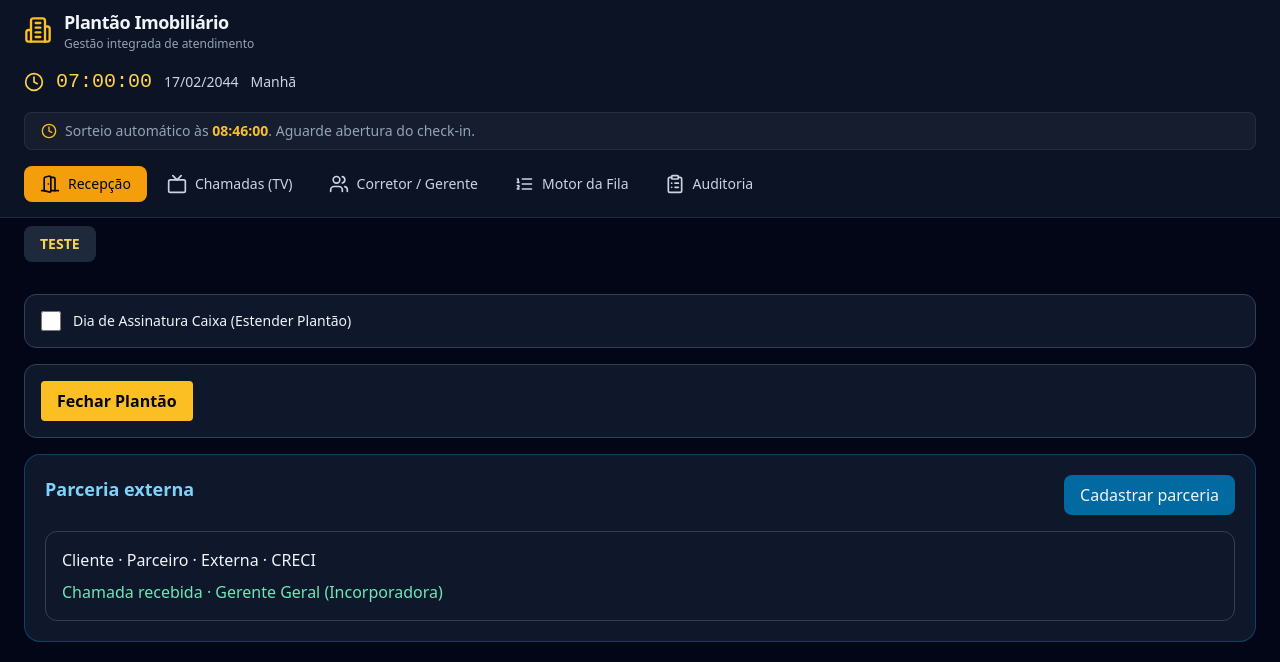
fecha pelo botão, preserva snapshot nominal e depois limpa o dia pelo TESTE sem perder fatos ou corretores
What coordinates should you click on to do the following:
click the button "TESTE"
I would click on:
 (60, 244)
Its box is top-left (24, 226), bottom-right (96, 262).
(page scrolled)
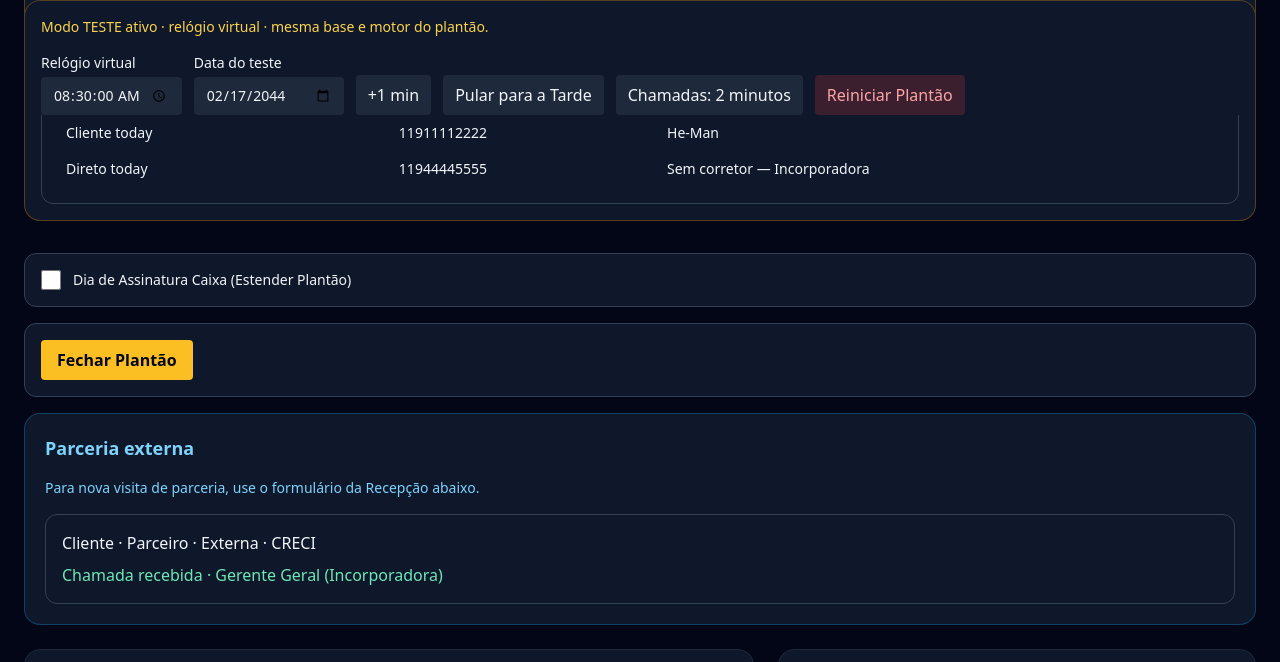
What coordinates should you click on to do the following:
click the button "Fechar Plantão"
I would click on:
 (117, 360)
Its box is top-left (41, 340), bottom-right (193, 380).
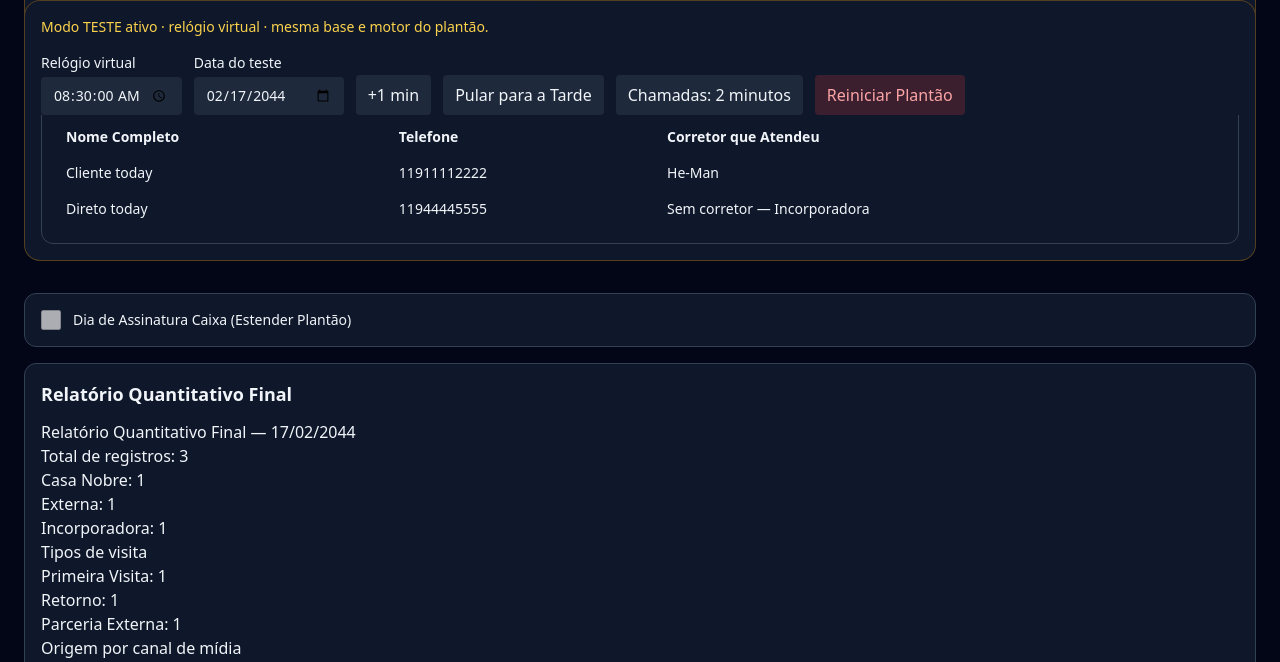
Result: the button "Reiniciar Plantão" is shown
Result: the text "Relatório Quantitativo Final" is shown at top-left (41, 382), bottom-right (292, 406)
What coordinates should you click on to do the following:
click the button "Reiniciar Plantão"
I would click on:
 (890, 95)
Its box is top-left (815, 75), bottom-right (965, 115).
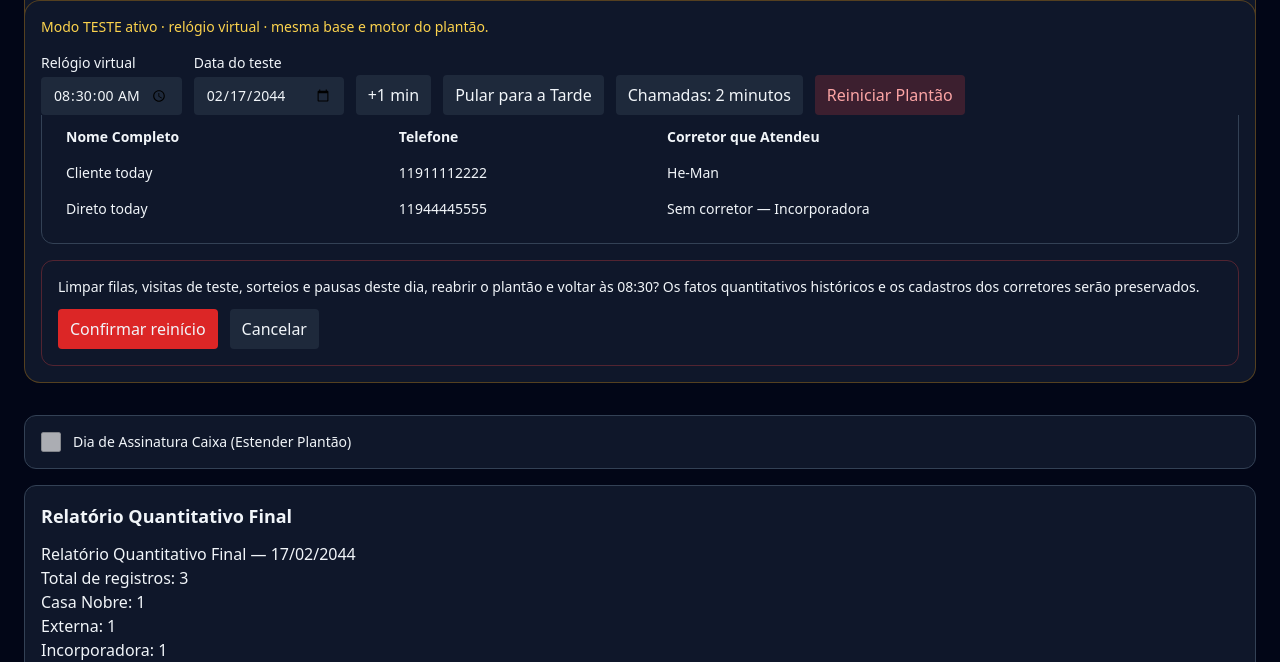
Result: the button "Confirmar reinício" is shown
What coordinates should you click on to do the following:
click the button "Confirmar reinício"
I would click on:
 (138, 329)
Its box is top-left (58, 309), bottom-right (218, 349).
(page scrolled)
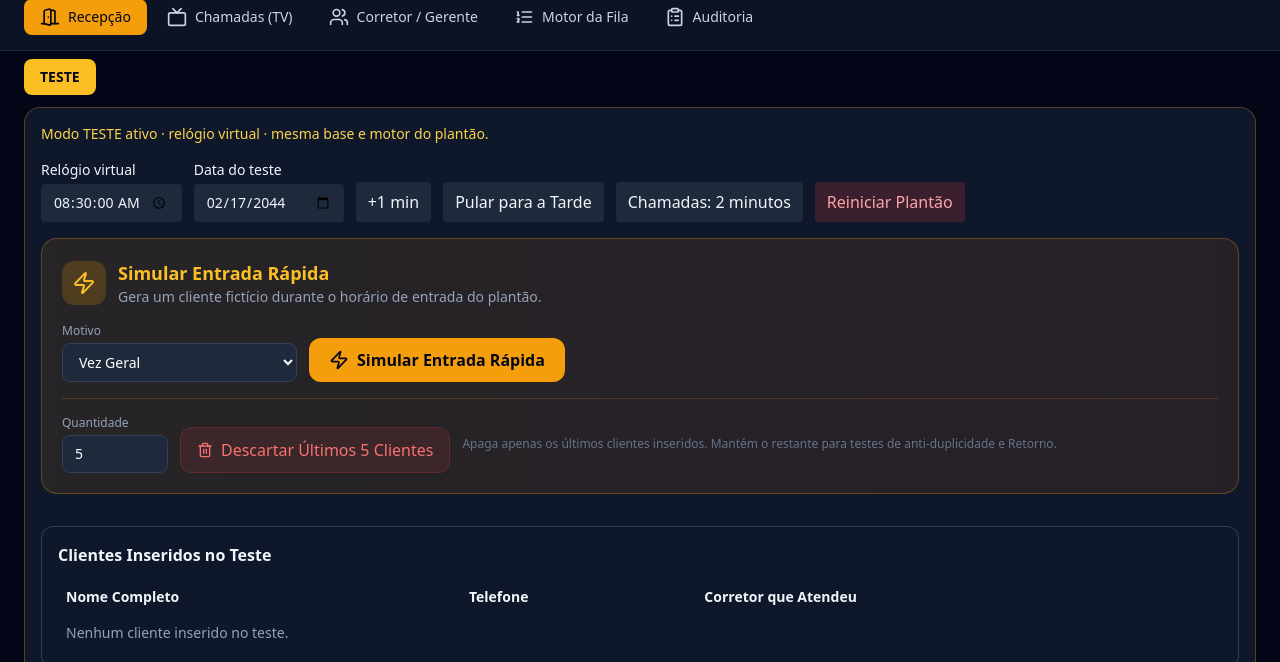
Result: the time field labelled "Relógio virtual" holds "08:30:00" at top-left (41, 184), bottom-right (182, 222)
Result: the text "Cliente today" is gone
Result: the text "Direto today" is gone
